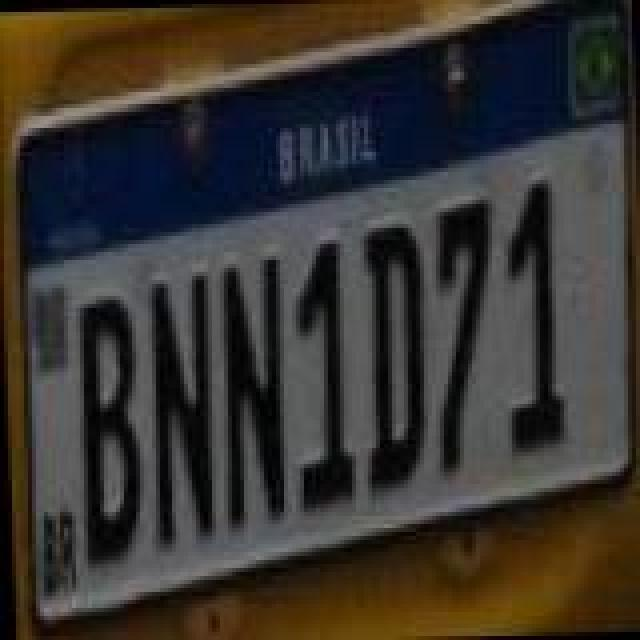1: (286, 230, 354, 514), (498, 170, 562, 454)
7: (424, 188, 500, 484)
B: (74, 292, 146, 572)
D: (356, 218, 428, 498)
N: (144, 260, 216, 548), (216, 246, 288, 534)
